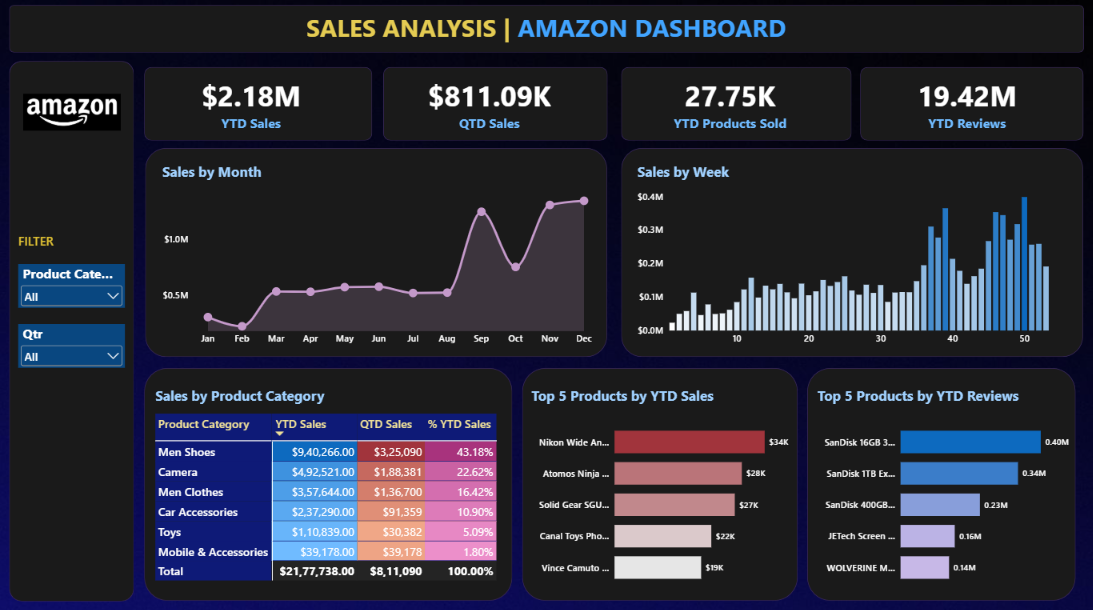

This screenshot's page, from the dashboard's own definition file:
{"tool":"powerbi","page":{"name":"Page 1","canvas":[1920,1080],"ordinal":0},"visuals":[{"type":"shape","box":[16.7,8.3,1885.4,83.3],"z":0},{"type":"textbox","box":[416,18.4,1087.7,62.6],"z":1000},{"type":"shape","box":[16.7,106.2,218.8,947.9],"z":2000},{"type":"shape","box":[254.2,116.7,400,129.2],"z":3000},{"type":"cardVisual","fields":{"Data":["Amazon_Data.YTD Sales"]},"box":[293.8,122.9,298.2,119.6],"z":4000},{"type":"shape","box":[672.9,116.7,393.8,129.2],"z":5000},{"type":"shape","box":[1091.7,116.7,404.2,129.2],"z":6000},{"type":"shape","box":[1510.4,116.7,391.7,129.2],"z":7000},{"type":"cardVisual","fields":{"Data":["Amazon_Data.QTD Sales"]},"box":[691.7,122.9,338.7,119.6],"z":8000},{"type":"cardVisual","fields":{"Data":["Amazon_Data.YTD Products Sold"]},"box":[1133.3,122.9,298.2,119.6],"z":9000},{"type":"cardVisual","fields":{"Data":["Amazon_Data.YTD Reviews"]},"box":[1550,122.9,298.2,119.6],"z":10000},{"type":"shape","box":[256.2,260.4,810.4,366.7],"z":11000},{"type":"areaChart","title":"Sales by Month","fields":{"Category":["Date Table.Month Name"],"Y":["Sum(Amazon_Data.Price(Dollar))"]},"box":[270.8,270.8,795.8,356.2],"z":12000},{"type":"shape","box":[1091.7,260.4,810.4,366.7],"z":13000},{"type":"columnChart","title":"Sales by Week","fields":{"Category":["Date Table.Week"],"Y":["Sum(Amazon_Data.Price(Dollar))"]},"box":[1104.2,270.8,783.3,356.2],"z":14000},{"type":"shape","box":[254.2,645.8,645.8,408.3],"z":15000},{"type":"pivotTable","title":"Sales by Product Category","fields":{"Rows":["Amazon_Data.Product Category"],"Values":["Amazon_Data.YTD Sales","Amazon_Data.QTD Sales","Divide(Amazon_Data.YTD Sales, ScopedEval(Amazon_Data.YTD Sales, []))"]},"box":[258.3,662.5,641.7,391.7],"z":16000},{"type":"shape","box":[916.7,645.8,483.3,408.3],"z":17000},{"type":"shape","box":[1416.7,645.8,470.8,408.3],"z":18000},{"type":"clusteredBarChart","title":"Top 5 Products by YTD Sales","fields":{"Category":["Amazon_Data.Product Description"],"Y":["Amazon_Data.YTD Sales"]},"box":[916.7,662.5,483.3,391.7],"z":19000},{"type":"clusteredBarChart","title":"Top 5 Products by YTD Reviews","fields":{"Category":["Amazon_Data.Product Description"],"Y":["Amazon_Data.YTD Reviews"]},"box":[1418.8,662.5,483.3,391.7],"z":20000},{"type":"slicer","fields":{"Values":["Amazon_Data.Product Category"]},"box":[33.1,464,187.5,77.1],"z":21000},{"type":"slicer","fields":{"Values":["Date Table.Qtr"]},"box":[33.3,568.8,187.5,77.1],"z":22000},{"type":"image","box":[41.7,122.9,170.8,147.9],"z":23000},{"type":"textbox","box":[33.1,406.4,139.5,36.6],"z":23001}]}

Visuals, with their boxes in screenshot pixels (x1, y1, x2, y2), scaled from the page's 1920x1080 canvas onto the 1093x610 screenshot:
shape: bbox(10, 5, 1083, 52)
textbox: bbox(237, 10, 856, 46)
shape: bbox(10, 60, 134, 595)
shape: bbox(145, 66, 372, 139)
cardVisual - Amazon_Data.YTD Sales: bbox(167, 69, 337, 137)
shape: bbox(383, 66, 607, 139)
shape: bbox(621, 66, 852, 139)
shape: bbox(860, 66, 1083, 139)
cardVisual - Amazon_Data.QTD Sales: bbox(394, 69, 587, 137)
cardVisual - Amazon_Data.YTD Products Sold: bbox(645, 69, 815, 137)
cardVisual - Amazon_Data.YTD Reviews: bbox(882, 69, 1052, 137)
shape: bbox(146, 147, 607, 354)
"Sales by Month" areaChart: bbox(154, 153, 607, 354)
shape: bbox(621, 147, 1083, 354)
"Sales by Week" columnChart: bbox(629, 153, 1074, 354)
shape: bbox(145, 365, 512, 595)
"Sales by Product Category" pivotTable: bbox(147, 374, 512, 595)
shape: bbox(522, 365, 797, 595)
shape: bbox(806, 365, 1074, 595)
"Top 5 Products by YTD Sales" clusteredBarChart: bbox(522, 374, 797, 595)
"Top 5 Products by YTD Reviews" clusteredBarChart: bbox(808, 374, 1083, 595)
slicer - Amazon_Data.Product Category: bbox(19, 262, 126, 306)
slicer - Date Table.Qtr: bbox(19, 321, 126, 365)
image: bbox(24, 69, 121, 153)
textbox: bbox(19, 230, 98, 250)
